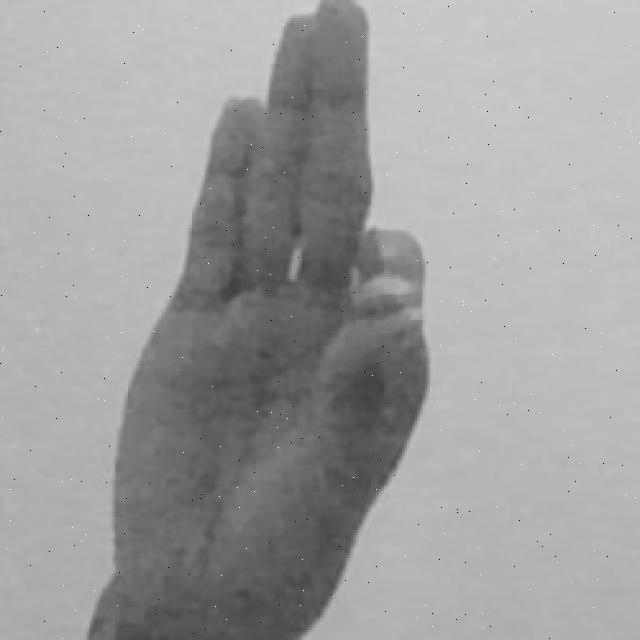F: (77, 0, 438, 640)
